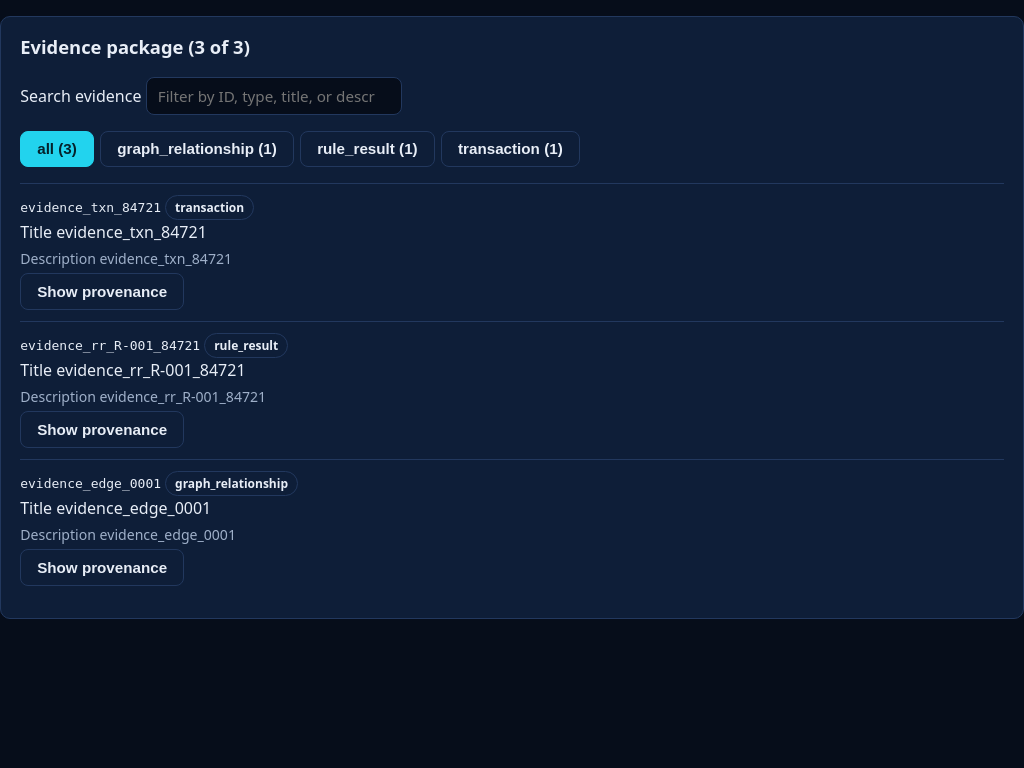
Test: EvidenceList › filters by evidence type
Click the button "rule_result (1)".
click(367, 149)  # box [300,131,435,167]
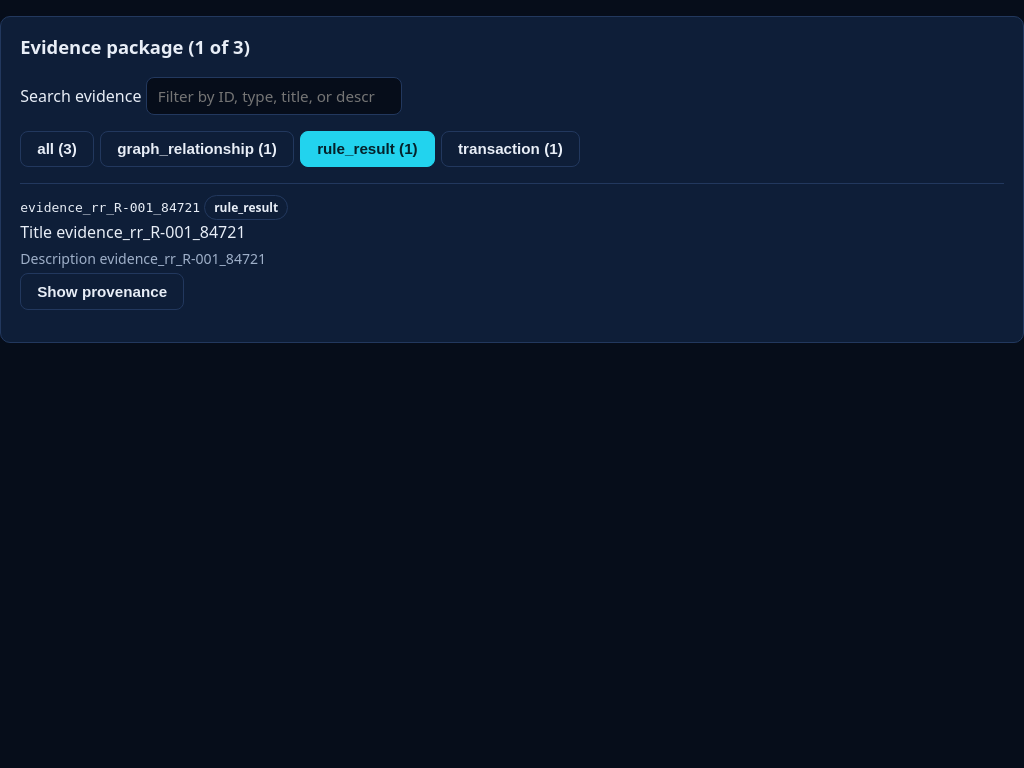
Expected: the text "evidence_rr_R-001_84721" is shown, [20,200,200,215]
Now the heading "Evidence package (1 of 3)" is shown, box [20,34,250,59]
Now the text "evidence_edge_0001" is gone
